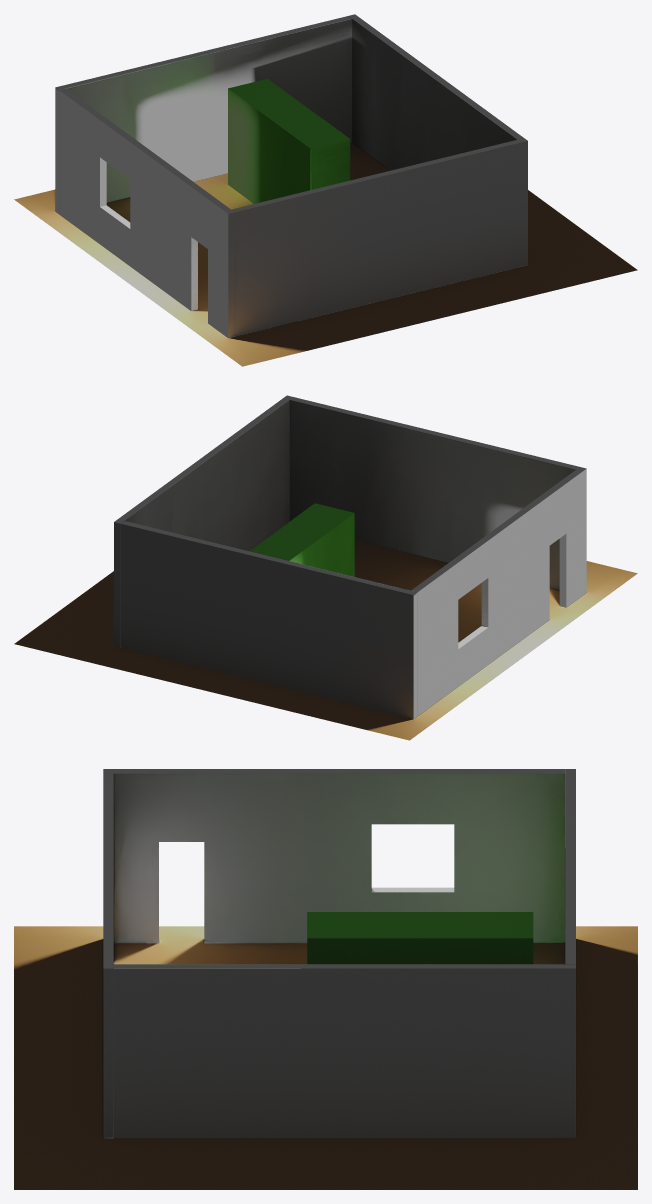
The picture shows the model from 3 angles, top to bottom: view 1: azimuth 30°, elevation 25°; view 2: azimuth 150°, elevation 25°; view 3: azimuth 270°, elevation 25°; orthographic projection. The views are drawn at different scales.
Visible parts, largest first — view 1: Walls, Floor, Object; view 2: Walls, Floor, Object; view 3: Walls, Floor, Object.
Boxes of the visible parts, x1=… form: Walls: x1=55, y1=14, x2=527, y2=338; Floor: x1=14, y1=143, x2=637, y2=366; Object: x1=228, y1=79, x2=350, y2=203; Walls: x1=114, y1=395, x2=586, y2=719; Floor: x1=14, y1=540, x2=637, y2=740; Object: x1=250, y1=503, x2=354, y2=576; Walls: x1=103, y1=769, x2=575, y2=1138; Floor: x1=14, y1=926, x2=637, y2=1189; Object: x1=307, y1=912, x2=533, y2=964.
Size of the model in its own units: 20 by 6.13 by 20.
3 materials, 3 textured.
